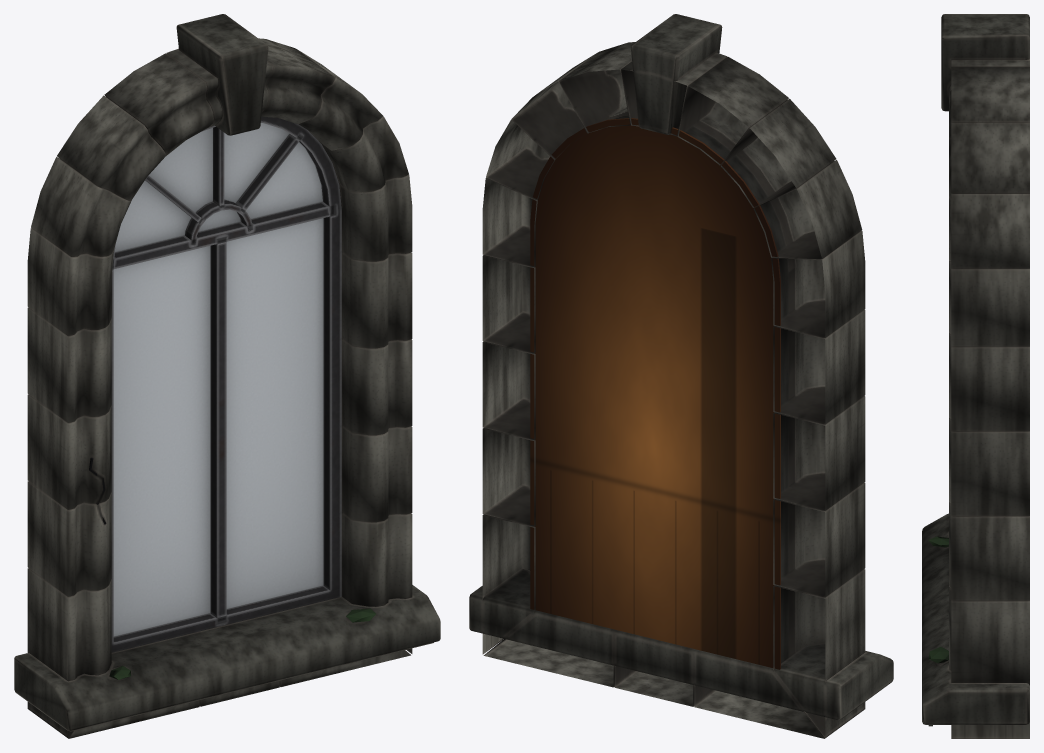
File: RoundArchWindow.fbx
3 views of the same model, side by side, from view 1: azimuth 30°, elevation 25°; view 2: azimuth 150°, elevation 25°; view 3: azimuth 270°, elevation 25° (orthographic). The views are drawn at different scales.
Parts seen in each view (by area): view 1: RoundArchWindow_Main, RoundArchWindow_Glass; view 2: RoundArchWindow_Room, RoundArchWindow_Main; view 3: RoundArchWindow_Main.
Boxes of the visible parts, bbox=[...] form: RoundArchWindow_Main: bbox=[14, 14, 440, 738]; RoundArchWindow_Glass: bbox=[113, 123, 323, 636]; RoundArchWindow_Room: bbox=[530, 118, 780, 669]; RoundArchWindow_Main: bbox=[469, 14, 893, 738]; RoundArchWindow_Main: bbox=[922, 14, 1029, 738].
Size of the model in its own units: 390 by 648 by 100.
